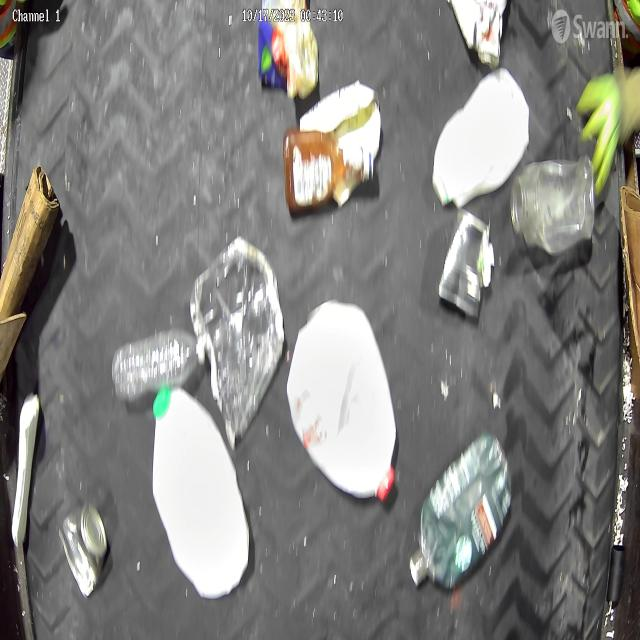can: (439, 209, 491, 321), (58, 501, 109, 599)
milk_jug: (286, 299, 399, 505), (150, 388, 251, 598), (431, 69, 530, 211)
plastic_bottle: (112, 328, 206, 396)
